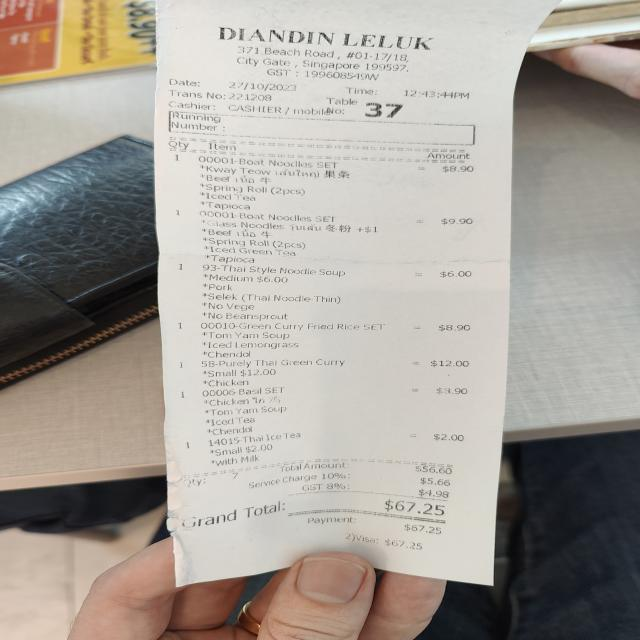bill_region: (162, 149, 480, 522)
